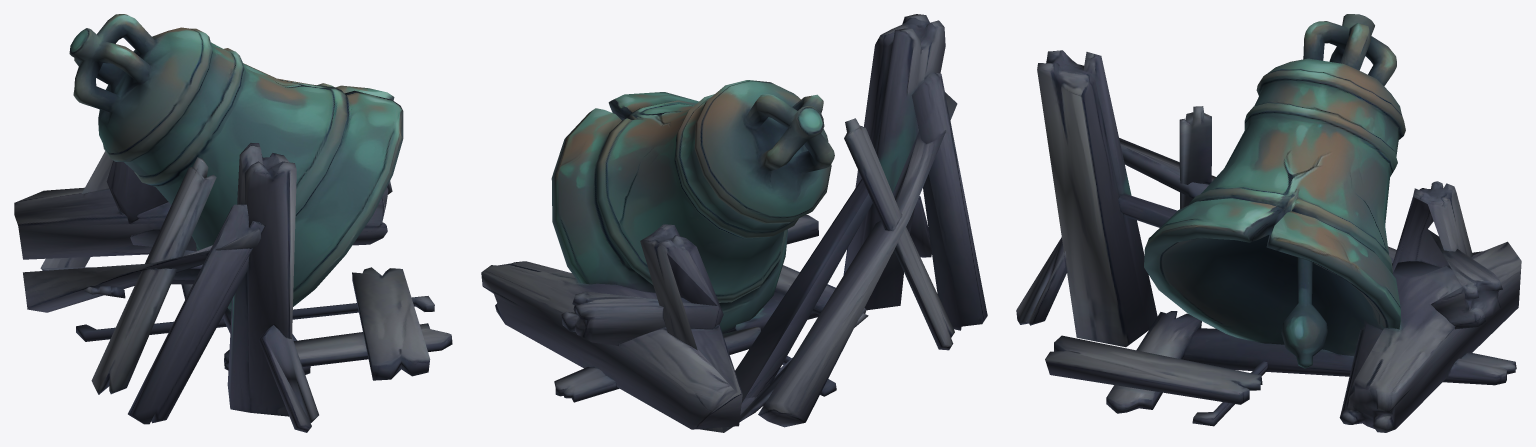
The model's file is map_fallenbell_tripo.glb.
3 renders of one model, left to right at view 1: azimuth 30°, elevation 25°; view 2: azimuth 150°, elevation 25°; view 3: azimuth 270°, elevation 25°, orthographic. The views are drawn at different scales.
Visible parts, largest first — view 1: tripo_node_71a13fe5-9cd1-4cad-8169-93eae5d2e998; view 2: tripo_node_71a13fe5-9cd1-4cad-8169-93eae5d2e998; view 3: tripo_node_71a13fe5-9cd1-4cad-8169-93eae5d2e998.
Part boxes in pixels (x1,y1,x2,y2): tripo_node_71a13fe5-9cd1-4cad-8169-93eae5d2e998: (14, 14, 452, 432); tripo_node_71a13fe5-9cd1-4cad-8169-93eae5d2e998: (481, 14, 987, 432); tripo_node_71a13fe5-9cd1-4cad-8169-93eae5d2e998: (1016, 14, 1521, 432).
Size of the model in its own units: 0.873 by 0.666 by 0.998.
1 material, 1 textured.
